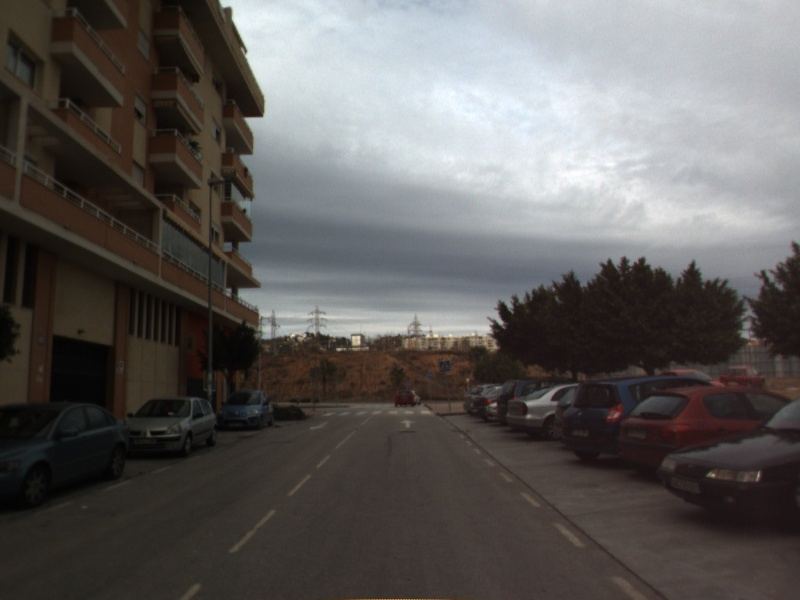STRAIGHT: (398, 417, 418, 430)
